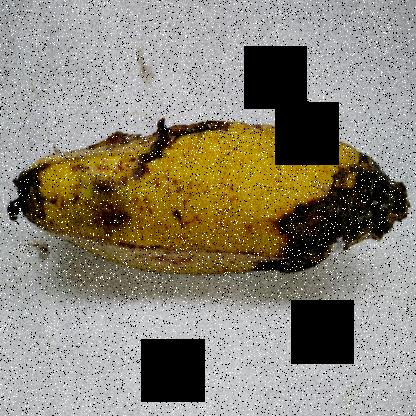rotten: (258, 114, 415, 297), (96, 76, 248, 187), (78, 172, 146, 250), (0, 152, 56, 240)
